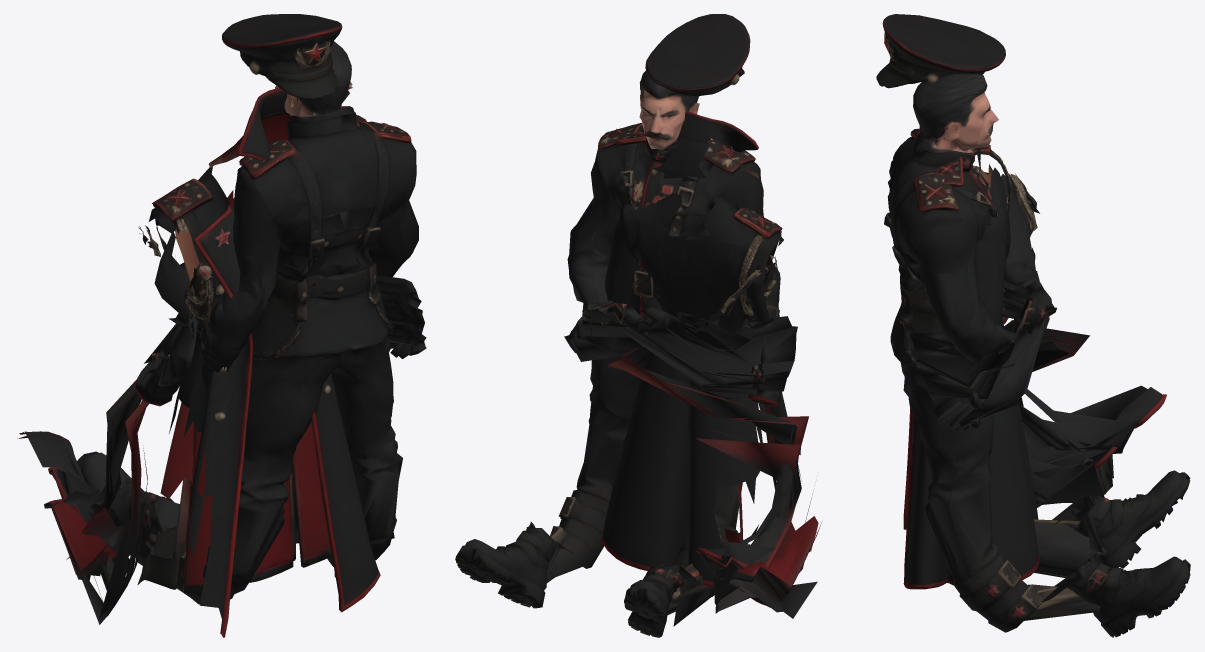
The model's file is military-officer-driver-test.glb.
The picture shows the model from 3 angles, left to right: view 1: azimuth 30°, elevation 25°; view 2: azimuth 150°, elevation 25°; view 3: azimuth 270°, elevation 25°; orthographic projection. The views are drawn at different scales.
Parts seen in each view (by area): view 1: Tripo officer Body, Tripo officer Cape, Tripo officer Cap; view 2: Tripo officer Body, Tripo officer Cape, Tripo officer Cap; view 3: Tripo officer Body, Tripo officer Cape, Tripo officer Cap.
Boxes of the visible parts, <box> form: Tripo officer Body: <box>17,41,426,624</box>; Tripo officer Cape: <box>137,166,380,637</box>; Tripo officer Cap: <box>208,14,366,167</box>; Tripo officer Body: <box>455,70,821,637</box>; Tripo officer Cape: <box>602,193,801,586</box>; Tripo officer Cap: <box>616,14,759,181</box>; Tripo officer Body: <box>884,74,1190,637</box>; Tripo officer Cape: <box>903,144,1039,589</box>; Tripo officer Cap: <box>876,14,1005,187</box>.
Bounding box in the file's own units: 0.979 × 1.82 × 0.9138.
1 material, 1 textured.
